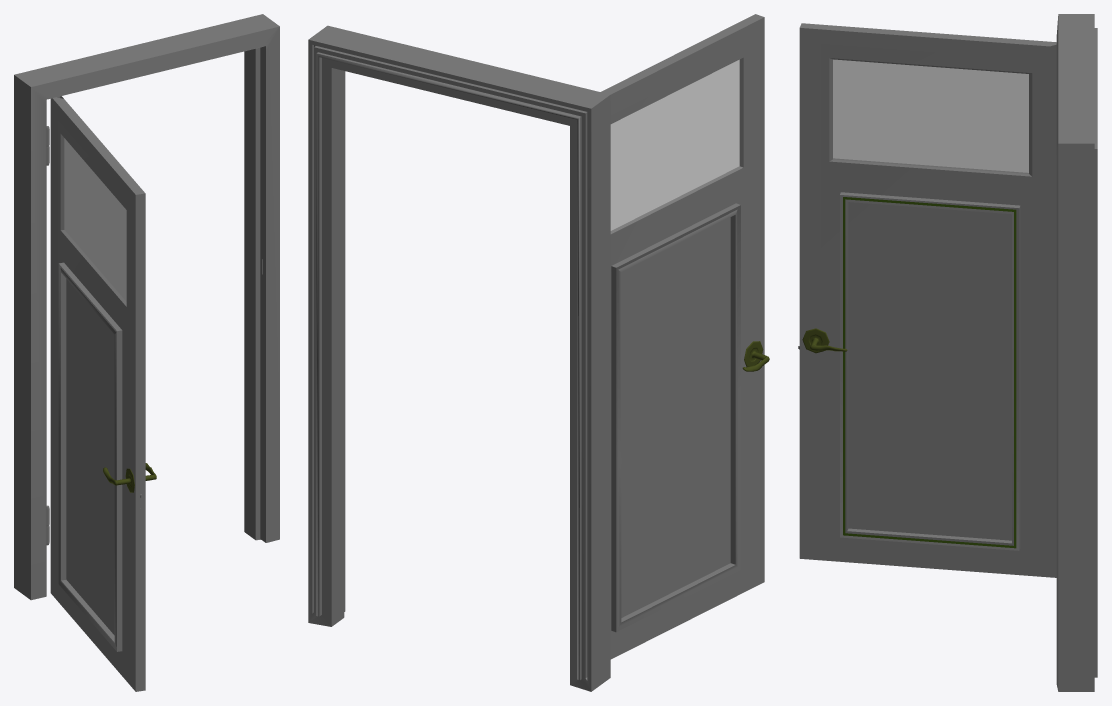
File: door.glb
3 renders of one model, left to right at view 1: azimuth 30°, elevation 25°; view 2: azimuth 150°, elevation 25°; view 3: azimuth 270°, elevation 25°, orthographic. The views are drawn at different scales.
Parts seen in each view (by area): view 1: door, frame_body_0, door.001; view 2: door, frame_body_0; view 3: door, frame_body_0, door.001.
Part boxes in pixels (x1=…): door: x1=50, y1=96, x2=145, y2=691; frame_body_0: x1=14, y1=14, x2=279, y2=600; door.001: x1=103, y1=463, x2=156, y2=492; door: x1=601, y1=14, x2=764, y2=659; frame_body_0: x1=308, y1=25, x2=610, y2=691; door: x1=798, y1=23, x2=1056, y2=577; frame_body_0: x1=1056, y1=14, x2=1097, y2=691; door.001: x1=802, y1=328, x2=847, y2=353.
Size of the model in its own units: 2.82 by 5 by 2.47.
